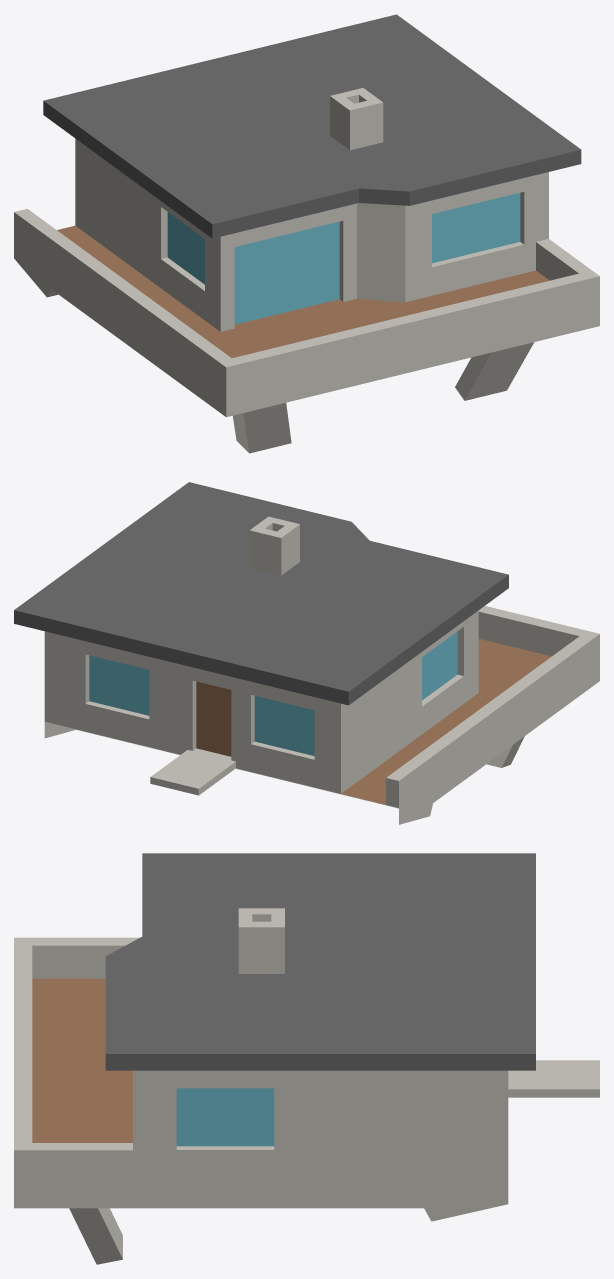
File: house-hill-small.glb
3 views of the same model, one above another, from view 1: azimuth 30°, elevation 25°; view 2: azimuth 150°, elevation 25°; view 3: azimuth 270°, elevation 25° (orthographic). The views are drawn at different scales.
Visible parts, largest first — view 1: house-hill-small_Cube.005; view 2: house-hill-small_Cube.005; view 3: house-hill-small_Cube.005.
Boxes of the visible parts, x1=… form: house-hill-small_Cube.005: x1=14, y1=14, x2=599, y2=453; house-hill-small_Cube.005: x1=14, y1=482, x2=599, y2=824; house-hill-small_Cube.005: x1=14, y1=853, x2=599, y2=1264.
Bounding box in the file's own units: 11.59 × 7.27 × 12.8.
Materials: 1 (1 with a texture image).
